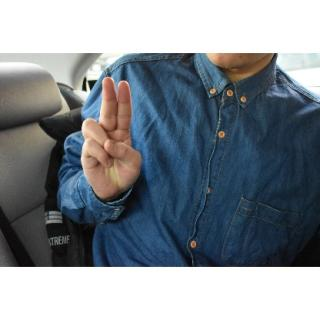TA: (78, 73, 144, 202)
